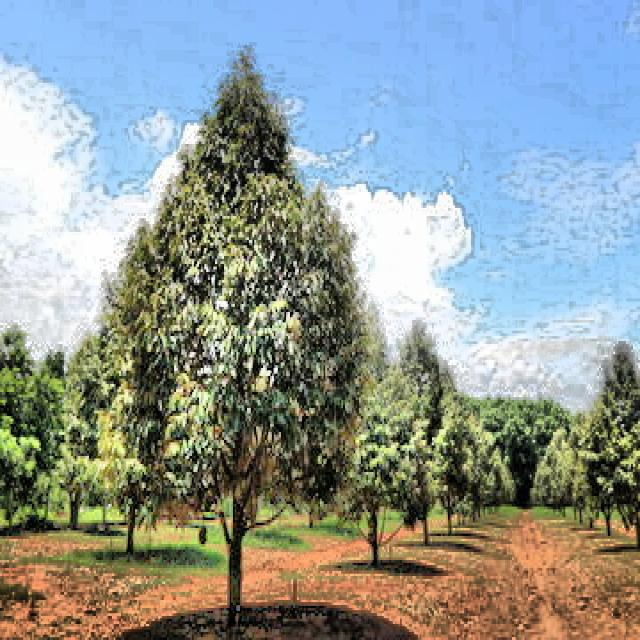arvore: (215, 394, 259, 640), (356, 450, 394, 580), (121, 436, 147, 570), (412, 466, 436, 564), (63, 437, 84, 535), (622, 474, 640, 578), (443, 470, 457, 548), (599, 479, 614, 546)
